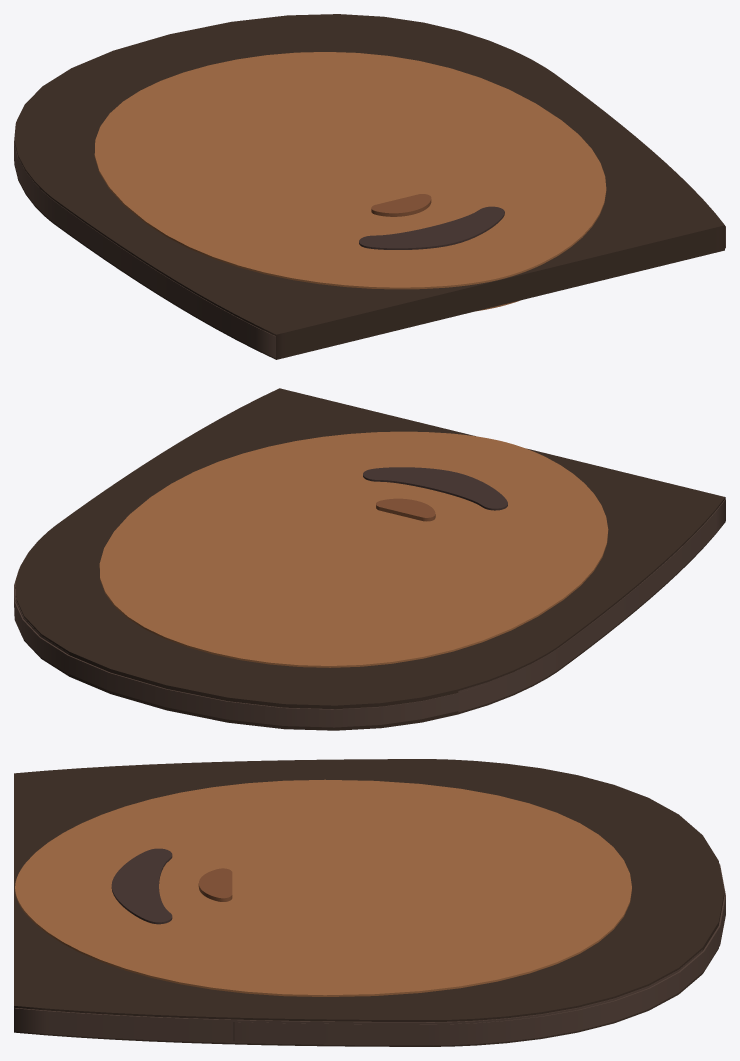
The model's file is emoji_u1f469_1f3fe.glb.
The picture shows the model from 3 angles, top to bottom: view 1: azimuth 30°, elevation 25°; view 2: azimuth 150°, elevation 25°; view 3: azimuth 270°, elevation 25°; orthographic projection. The views are drawn at different scales.
Visible parts, largest first — view 1: emoji_u1f469_1f3fe; view 2: emoji_u1f469_1f3fe; view 3: emoji_u1f469_1f3fe.
Boxes of the visible parts, x1,y1,x2,y2 form: emoji_u1f469_1f3fe: (14,14,725,359); emoji_u1f469_1f3fe: (14,388,725,730); emoji_u1f469_1f3fe: (14,759,725,1046).
Size of the model in its own units: 0.0293 by 0.002 by 0.0337.
